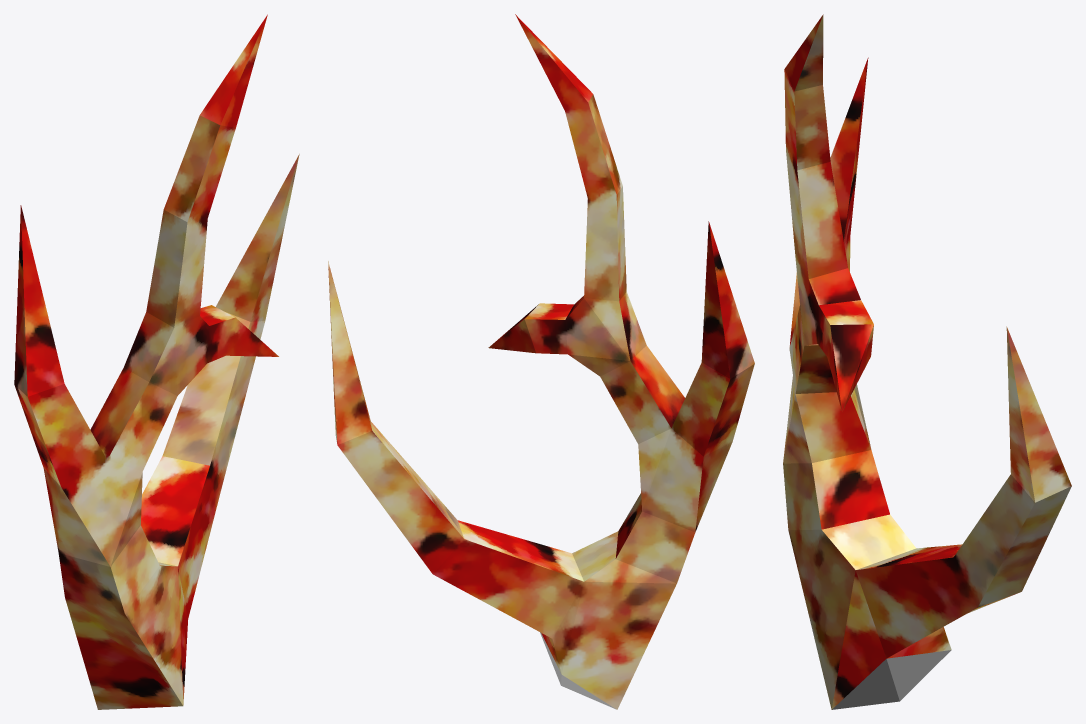
The model's file is RightAntler4.fbx.
3 views of the same model, side by side, from view 1: azimuth 30°, elevation 25°; view 2: azimuth 150°, elevation 25°; view 3: azimuth 270°, elevation 25° (orthographic). The views are drawn at different scales.
Parts seen in each view (by area): view 1: BigRightAntler4; view 2: BigRightAntler4; view 3: BigRightAntler4.
Boxes of the visible parts, x1,y1,x2,y2 form: BigRightAntler4: (14,14,299,709); BigRightAntler4: (328,14,754,709); BigRightAntler4: (783,14,1071,709).
Size of the model in its own units: 520 by 936 by 327.
